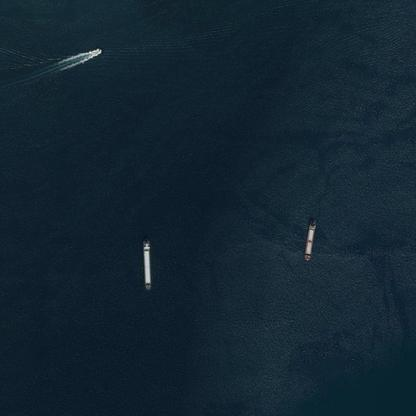ship: (133, 232, 164, 294), (298, 209, 318, 266), (80, 40, 105, 62)
